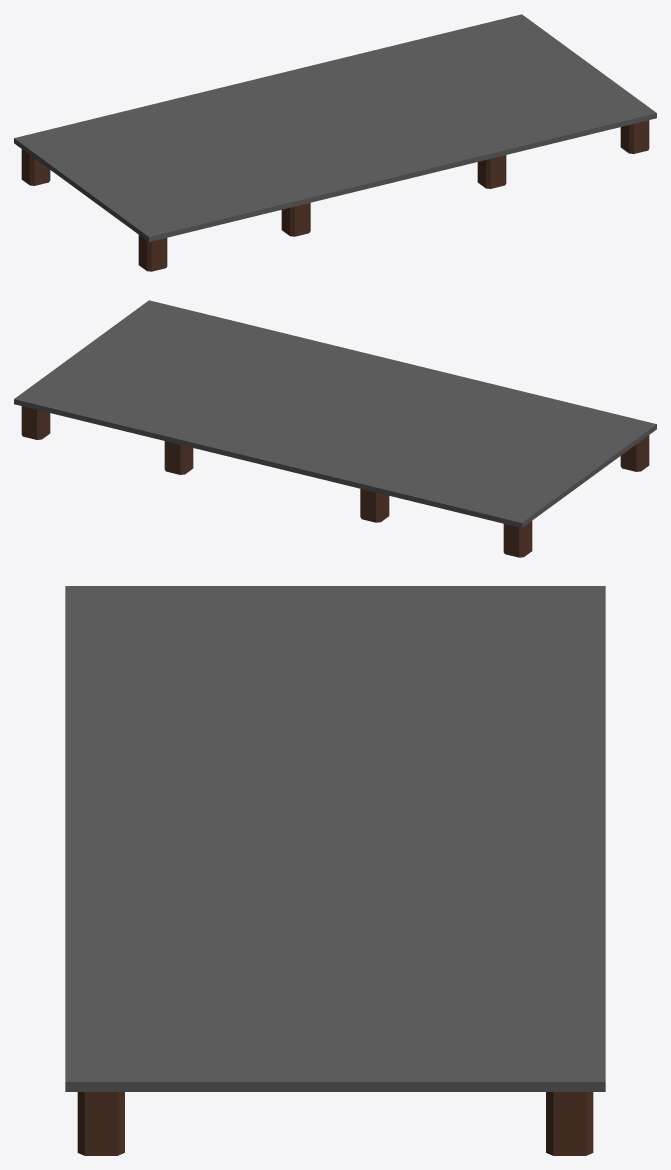
The model's file is Platform_2_1 Asia.fbx.
3 views of the same model, one above another, from view 1: azimuth 30°, elevation 25°; view 2: azimuth 150°, elevation 25°; view 3: azimuth 270°, elevation 25° (orthographic). The views are drawn at different scales.
Parts seen in each view (by area): view 1: Platform_2_1; view 2: Platform_2_1; view 3: Platform_2_1.
Boxes of the visible parts, bbox=[...] form: Platform_2_1: bbox=[14, 14, 656, 271]; Platform_2_1: bbox=[14, 300, 656, 557]; Platform_2_1: bbox=[65, 586, 605, 1155].
Bounding box in the file's own units: 9.73 × 0.7011 × 4.48.
